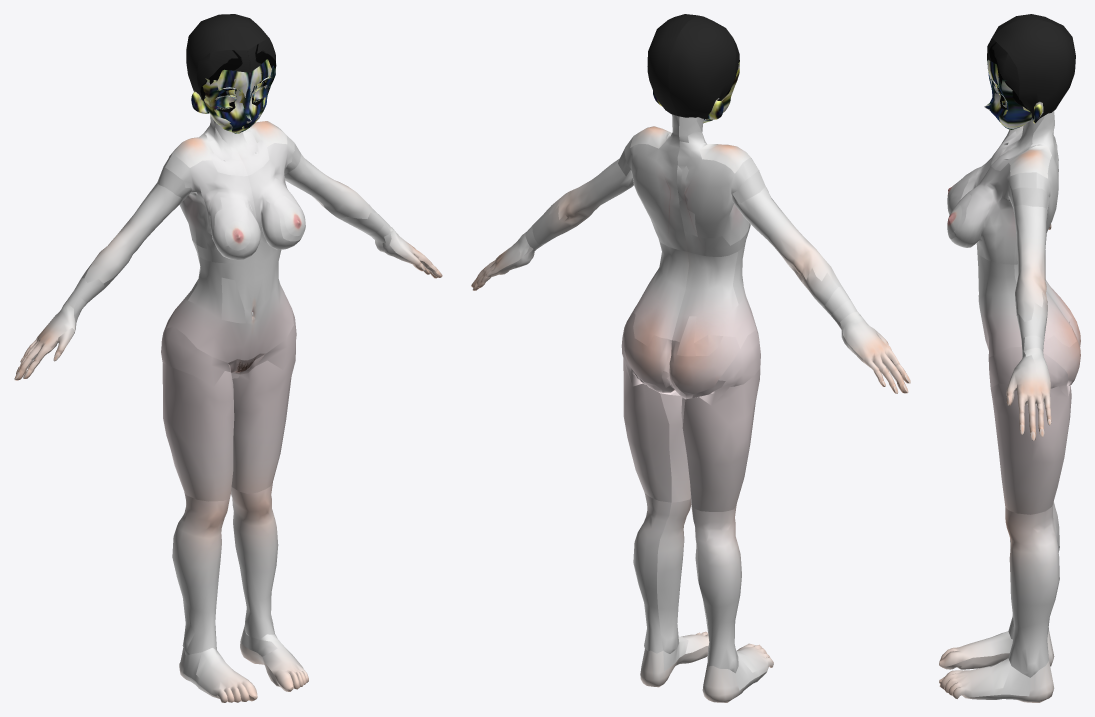
File: maniquiAesir.obj
The picture shows the model from 3 angles, left to right: view 1: azimuth 30°, elevation 25°; view 2: azimuth 150°, elevation 25°; view 3: azimuth 270°, elevation 25°; orthographic projection. The views are drawn at different scales.
Visible parts, largest first — view 1: 材質3_Ingenieras.003; view 2: 材質3_Ingenieras.003; view 3: 材質3_Ingenieras.003.
Boxes of the visible parts, x1=… form: 材質3_Ingenieras.003: x1=14, y1=14, x2=442, y2=702; 材質3_Ingenieras.003: x1=471, y1=14, x2=910, y2=702; 材質3_Ingenieras.003: x1=939, y1=14, x2=1080, y2=702.
Size of the model in its own units: 4.37 by 6.42 by 1.24.
